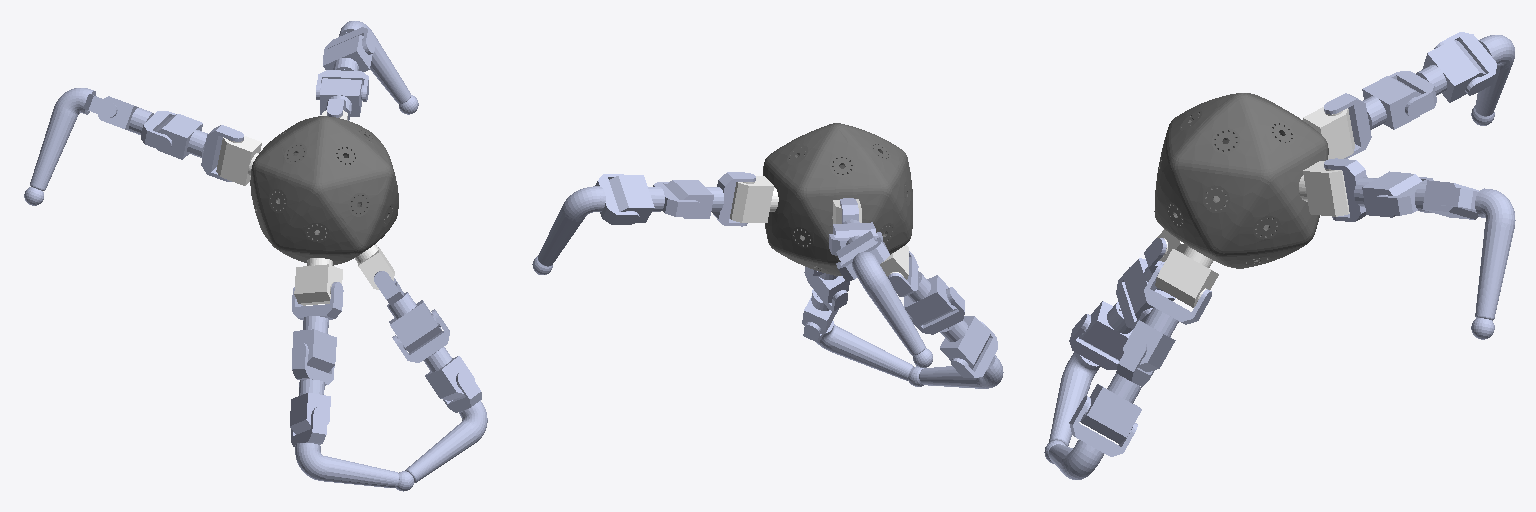
robot.urdf — mod_test:
<?xml version="1.0" encoding="utf-8"?>
<robot
  name="mod_test">
  <link
    name="base_link">
    <inertial>
      <origin
        xyz="-1.5226495220944E-06 1.5812928362389E-07 -5.05247252856584E-07"
        rpy="0 0 0" />
      <mass
        value="0.422806992949252" />
      <inertia
        ixx="0.00237499139253511"
        ixy="1.5717831530364E-08"
        ixz="1.49286265366169E-08"
        iyy="0.00237502154661776"
        iyz="-2.02154172619351E-08"
        izz="0.00237502595466009" />
    </inertial>
    <visual>
      <origin
        xyz="0 0 0"
        rpy="0 0 0" />
      <geometry>
        <mesh
          filename="package://meshes/base_link.STL" />
      </geometry>
      <material
        name="">
        <color
          rgba="0.498039215686275 0.498039215686275 0.498039215686275 1" />
      </material>
    </visual>
    <collision>
      <origin
        xyz="0 0 0"
        rpy="0 0 0" />
      <geometry>
        <mesh
          filename="package://meshes/base_link.STL" />
      </geometry>
    </collision>
  </link>
  <link
   name="150">
   <inertial>
      <origin
        xyz="0 0 0.028508"
        rpy="0 0 0" />
      <mass
        value="0.076173" />
      <inertia
        ixx="3.054E-05"
        ixy="0.000000"
        ixz="-0.000000"
        iyy="2.1077E-05"
        iyz="-0.000000"
        izz="2.1165E-05" />
    </inertial>
    <visual>
      <origin
        xyz="0 0 0"
        rpy="0 0 0" />
      <geometry>
        <mesh
          filename="package://meshes/1.STL" />
      </geometry>
      <material
        name="">
        <color
          rgba="1 1 1 1" />
      </material>
    </visual>
    <collision>
      <origin
        xyz="0 0 0"
        rpy="0 0 0" />
      <geometry>
        <mesh
          filename="package://meshes/1.STL" />
      </geometry>
    </collision>
  </link>
  <joint
    name="body_150"
    type="fixed">
    <origin
        xyz="0.031905 -0.043913 -0.071046"
        rpy="2.776697 -0.553612 -0.314143" />
    <parent
      link="base_link" />
    <child
      link="150" />
    <axis
      xyz="0 0 0" />
  </joint>
  <link
    name="151">
    <inertial>
      <origin
        xyz="0.060018 -1.4108E-06 1.4108E-06"
        rpy="0 0 0" />
    <mass
        value="0.10689" />
      <inertia
        ixx="3.2684e-05"
        ixy="-2.5662e-09"
        ixz="2.5662e-09"
        iyy="8.4132e-05"
        iyz="-2.1275e-13"
        izz="8.4583e-05" />
    </inertial>
    <visual>
      <origin
        xyz="0 0 0"
        rpy="0 0 0" />
      <geometry>
        <mesh
          filename="package://meshes/module9.STL" />
      </geometry>
      <material
        name="">
        <color
          rgba="0.79216 0.81961 0.93333 1" />
      </material>
    </visual>
    <collision>
      <origin
        xyz="0 0 0"
        rpy="0 0 0" />
      <geometry>
        <mesh
          filename="package://meshes/module9.STL" />
      </geometry>
    </collision>
  </link>
  <joint
    name="150_151"
    type="revolute">
    <origin
      xyz="0 0 0.04"
      rpy="-1.558 -1.5708 -0.012835" />
    <parent
      link="150" />
    <child
      link="151" />
    <axis
      xyz="0 0 1" />
    <limit
      lower="-6.28"
      upper="6.28"
      effort="10"
      velocity="100" />
  </joint>
  <link
    name="152">
    <inertial>
      <origin
        xyz="0.060018 -1.4108E-06 1.4108E-06"
        rpy="0 0 0" />
    <mass
        value="0.10689" />
      <inertia
        ixx="3.2684e-05"
        ixy="-2.5662e-09"
        ixz="2.5662e-09"
        iyy="8.6498e-05"
        iyz="4.0975e-06"
        izz="8.2217e-05" />
    </inertial>
    <visual>
      <origin
        xyz="0 0 0"
        rpy="0 0 0" />
      <geometry>
        <mesh
          filename="package://meshes/module2.STL" />
      </geometry>
      <material
        name="">
        <color
          rgba="0.79216 0.81961 0.93333 1" />
      </material>
    </visual>
    <collision>
      <origin
        xyz="0 0 0"
        rpy="0 0 0" />
      <geometry>
        <mesh
          filename="package://meshes/module2.STL" />
      </geometry>
    </collision>
  </link>
  <joint
    name="151_152"
    type="revolute">
    <origin
      xyz="0.0816 0 0"
      rpy="4.712389 0 0" />
    <parent
      link="151" />
    <child
      link="152" />
    <axis
      xyz="0 0 1" />
    <limit
      lower="-6.28"
      upper="6.28"
      effort="10"
      velocity="100" />
  </joint>
  <link
    name="153">
    <inertial>
      <origin
        xyz="0.051733 -0.042281 -1.3878E-17"
        rpy="0 0 0" />
    <mass
        value="0.12059" />
      <inertia
        ixx="0.00025425"
        ixy="4.8319E-05"
        ixz="0"
        iyy="5.0194E-05"
        iyz="-3.3141E-21"
        izz="0.00027482" />
    </inertial>
    <visual>
      <origin
        xyz="0 0 0"
        rpy="0 0 0" />
      <geometry>
        <mesh
          filename="package://meshes/leg.STL" />
      </geometry>
      <material
        name="">
        <color
          rgba="0.79216 0.81961 0.93333 1" />
      </material>
    </visual>
    <collision>
      <origin
        xyz="0 0 0"
        rpy="0 0 0" />
      <geometry>
        <mesh
          filename="package://meshes/leg.STL" />
      </geometry>
    </collision>
  </link>
  <joint
    name="152_153"
    type="revolute">
    <origin
      xyz="0.0816 0 0"
      rpy="1.047198 0 0" />
    <parent
      link="152" />
    <child
      link="153" />
    <axis
      xyz="0 0 1" />
    <limit
      lower="-6.28"
      upper="6.28"
      effort="10"
      velocity="100" />
  </joint>
  <link
   name="70">
   <inertial>
      <origin
        xyz="0 0 0.028508"
        rpy="0 0 0" />
      <mass
        value="0.076173" />
      <inertia
        ixx="3.054E-05"
        ixy="-0.000000"
        ixz="-0.000000"
        iyy="2.1077E-05"
        iyz="0.000000"
        izz="2.1165E-05" />
    </inertial>
    <visual>
      <origin
        xyz="0 0 0"
        rpy="0 0 0" />
      <geometry>
        <mesh
          filename="package://meshes/1.STL" />
      </geometry>
      <material
        name="">
        <color
          rgba="1 1 1 1" />
      </material>
    </visual>
    <collision>
      <origin
        xyz="0 0 0"
        rpy="0 0 0" />
      <geometry>
        <mesh
          filename="package://meshes/1.STL" />
      </geometry>
    </collision>
  </link>
  <joint
    name="body_70"
    type="fixed">
    <origin
        xyz="0.051620 0.071049 0.016769"
        rpy="-1.382126 -0.000000 -0.628319" />
    <parent
      link="base_link" />
    <child
      link="70" />
    <axis
      xyz="0 0 0" />
  </joint>
  <link
    name="71">
    <inertial>
      <origin
        xyz="0.060018 -1.4108E-06 1.4108E-06"
        rpy="0 0 0" />
    <mass
        value="0.10689" />
      <inertia
        ixx="3.2684e-05"
        ixy="-2.5662e-09"
        ixz="2.5662e-09"
        iyy="8.4132e-05"
        iyz="-2.1275e-13"
        izz="8.4583e-05" />
    </inertial>
    <visual>
      <origin
        xyz="0 0 0"
        rpy="0 0 0" />
      <geometry>
        <mesh
          filename="package://meshes/module9.STL" />
      </geometry>
      <material
        name="">
        <color
          rgba="0.79216 0.81961 0.93333 1" />
      </material>
    </visual>
    <collision>
      <origin
        xyz="0 0 0"
        rpy="0 0 0" />
      <geometry>
        <mesh
          filename="package://meshes/module9.STL" />
      </geometry>
    </collision>
  </link>
  <joint
    name="70_71"
    type="revolute">
    <origin
      xyz="0 0 0.04"
      rpy="-1.558 -1.5708 -0.012835" />
    <parent
      link="70" />
    <child
      link="71" />
    <axis
      xyz="0 0 1" />
    <limit
      lower="-6.28"
      upper="6.28"
      effort="10"
      velocity="100" />
  </joint>
  <link
    name="72">
    <inertial>
      <origin
        xyz="0.060018 -1.4108E-06 1.4108E-06"
        rpy="0 0 0" />
    <mass
        value="0.10689" />
      <inertia
        ixx="3.2684e-05"
        ixy="-2.5662e-09"
        ixz="2.5662e-09"
        iyy="9.1229e-05"
        iyz="-4.0975e-06"
        izz="7.7485e-05" />
    </inertial>
    <visual>
      <origin
        xyz="0 0 0"
        rpy="0 0 0" />
      <geometry>
        <mesh
          filename="package://meshes/module11.STL" />
      </geometry>
      <material
        name="">
        <color
          rgba="0.79216 0.81961 0.93333 1" />
      </material>
    </visual>
    <collision>
      <origin
        xyz="0 0 0"
        rpy="0 0 0" />
      <geometry>
        <mesh
          filename="package://meshes/module11.STL" />
      </geometry>
    </collision>
  </link>
  <joint
    name="71_72"
    type="revolute">
    <origin
      xyz="0.0816 0 0"
      rpy="4.712389 0 0" />
    <parent
      link="71" />
    <child
      link="72" />
    <axis
      xyz="0 0 1" />
    <limit
      lower="-6.28"
      upper="6.28"
      effort="10"
      velocity="100" />
  </joint>
  <link
    name="73">
    <inertial>
      <origin
        xyz="0.051733 -0.042281 -1.3878E-17"
        rpy="0 0 0" />
    <mass
        value="0.12059" />
      <inertia
        ixx="0.00025425"
        ixy="4.8319E-05"
        ixz="0"
        iyy="5.0194E-05"
        iyz="-3.3141E-21"
        izz="0.00027482" />
    </inertial>
    <visual>
      <origin
        xyz="0 0 0"
        rpy="0 0 0" />
      <geometry>
        <mesh
          filename="package://meshes/leg.STL" />
      </geometry>
      <material
        name="">
        <color
          rgba="0.79216 0.81961 0.93333 1" />
      </material>
    </visual>
    <collision>
      <origin
        xyz="0 0 0"
        rpy="0 0 0" />
      <geometry>
        <mesh
          filename="package://meshes/leg.STL" />
      </geometry>
    </collision>
  </link>
  <joint
    name="72_73"
    type="revolute">
    <origin
      xyz="0.0816 0 0"
      rpy="5.759587 0 0" />
    <parent
      link="72" />
    <child
      link="73" />
    <axis
      xyz="0 0 1" />
    <limit
      lower="-6.28"
      upper="6.28"
      effort="10"
      velocity="100" />
  </joint>
  <link
   name="80">
   <inertial>
      <origin
        xyz="0 0 0.028508"
        rpy="0 0 0" />
      <mass
        value="0.076173" />
      <inertia
        ixx="3.054E-05"
        ixy="-0.000000"
        ixz="-0.000000"
        iyy="2.1077E-05"
        iyz="-0.000000"
        izz="2.1165E-05" />
    </inertial>
    <visual>
      <origin
        xyz="0 0 0"
        rpy="0 0 0" />
      <geometry>
        <mesh
          filename="package://meshes/1.STL" />
      </geometry>
      <material
        name="">
        <color
          rgba="1 1 1 1" />
      </material>
    </visual>
    <collision>
      <origin
        xyz="0 0 0"
        rpy="0 0 0" />
      <geometry>
        <mesh
          filename="package://meshes/1.STL" />
      </geometry>
    </collision>
  </link>
  <joint
    name="body_80"
    type="fixed">
    <origin
        xyz="-0.051620 0.071049 0.016769"
        rpy="1.382126 -0.000000 -2.513274" />
    <parent
      link="base_link" />
    <child
      link="80" />
    <axis
      xyz="0 0 0" />
  </joint>
  <link
    name="81">
    <inertial>
      <origin
        xyz="0.060018 -1.4108E-06 1.4108E-06"
        rpy="0 0 0" />
    <mass
        value="0.10689" />
      <inertia
        ixx="3.2684e-05"
        ixy="-2.5662e-09"
        ixz="2.5662e-09"
        iyy="8.4132e-05"
        iyz="-2.1275e-13"
        izz="8.4583e-05" />
    </inertial>
    <visual>
      <origin
        xyz="0 0 0"
        rpy="0 0 0" />
      <geometry>
        <mesh
          filename="package://meshes/module3.STL" />
      </geometry>
      <material
        name="">
        <color
          rgba="0.79216 0.81961 0.93333 1" />
      </material>
    </visual>
    <collision>
      <origin
        xyz="0 0 0"
        rpy="0 0 0" />
      <geometry>
        <mesh
          filename="package://meshes/module3.STL" />
      </geometry>
    </collision>
  </link>
  <joint
    name="80_81"
    type="revolute">
    <origin
      xyz="0 0 0.04"
      rpy="-1.558 -1.5708 -0.012835" />
    <parent
      link="80" />
    <child
      link="81" />
    <axis
      xyz="0 0 1" />
    <limit
      lower="-6.28"
      upper="6.28"
      effort="10"
      velocity="100" />
  </joint>
  <link
    name="82">
    <inertial>
      <origin
        xyz="0.060018 -1.4108E-06 1.4108E-06"
        rpy="0 0 0" />
    <mass
        value="0.10689" />
      <inertia
        ixx="3.2684e-05"
        ixy="-2.5662e-09"
        ixz="2.5662e-09"
        iyy="9.1229e-05"
        iyz="4.0975e-06"
        izz="7.7485e-05" />
    </inertial>
    <visual>
      <origin
        xyz="0 0 0"
        rpy="0 0 0" />
      <geometry>
        <mesh
          filename="package://meshes/module1.STL" />
      </geometry>
      <material
        name="">
        <color
          rgba="0.79216 0.81961 0.93333 1" />
      </material>
    </visual>
    <collision>
      <origin
        xyz="0 0 0"
        rpy="0 0 0" />
      <geometry>
        <mesh
          filename="package://meshes/module1.STL" />
      </geometry>
    </collision>
  </link>
  <joint
    name="81_82"
    type="revolute">
    <origin
      xyz="0.0816 0 0"
      rpy="1.570796 0 0" />
    <parent
      link="81" />
    <child
      link="82" />
    <axis
      xyz="0 0 1" />
    <limit
      lower="-6.28"
      upper="6.28"
      effort="10"
      velocity="100" />
  </joint>
  <link
    name="83">
    <inertial>
      <origin
        xyz="0.051733 -0.042281 -1.3878E-17"
        rpy="0 0 0" />
    <mass
        value="0.12059" />
      <inertia
        ixx="0.00025425"
        ixy="4.8319E-05"
        ixz="0"
        iyy="5.0194E-05"
        iyz="-3.3141E-21"
        izz="0.00027482" />
    </inertial>
    <visual>
      <origin
        xyz="0 0 0"
        rpy="0 0 0" />
      <geometry>
        <mesh
          filename="package://meshes/leg.STL" />
      </geometry>
      <material
        name="">
        <color
          rgba="0.79216 0.81961 0.93333 1" />
      </material>
    </visual>
    <collision>
      <origin
        xyz="0 0 0"
        rpy="0 0 0" />
      <geometry>
        <mesh
          filename="package://meshes/leg.STL" />
      </geometry>
    </collision>
  </link>
  <joint
    name="82_83"
    type="revolute">
    <origin
      xyz="0.0816 0 0"
      rpy="0.523599 0 0" />
    <parent
      link="82" />
    <child
      link="83" />
    <axis
      xyz="0 0 1" />
    <limit
      lower="-6.28"
      upper="6.28"
      effort="10"
      velocity="100" />
  </joint>
  <link
   name="190">
   <inertial>
      <origin
        xyz="0 0 0.028508"
        rpy="0 0 0" />
      <mass
        value="0.076173" />
      <inertia
        ixx="3.054E-05"
        ixy="0.000000"
        ixz="0.000000"
        iyy="2.1077E-05"
        iyz="0.000021"
        izz="2.1165E-05" />
    </inertial>
    <visual>
      <origin
        xyz="0 0 0"
        rpy="0 0 0" />
      <geometry>
        <mesh
          filename="package://meshes/1.STL" />
      </geometry>
      <material
        name="">
        <color
          rgba="1 1 1 1" />
      </material>
    </visual>
    <collision>
      <origin
        xyz="0 0 0"
        rpy="0 0 0" />
      <geometry>
        <mesh
          filename="package://meshes/1.STL" />
      </geometry>
    </collision>
  </link>
  <joint
    name="body_190"
    type="fixed">
    <origin
        xyz="-0.031905 -0.043913 -0.071046"
        rpy="-2.776697 -0.553612 -2.827450" />
    <parent
      link="base_link" />
    <child
      link="190" />
    <axis
      xyz="0 0 0" />
  </joint>
  <link
    name="191">
    <inertial>
      <origin
        xyz="0.060018 -1.4108E-06 1.4108E-06"
        rpy="0 0 0" />
    <mass
        value="0.10689" />
      <inertia
        ixx="3.2684e-05"
        ixy="-2.5662e-09"
        ixz="2.5662e-09"
        iyy="8.4132e-05"
        iyz="-2.1275e-13"
        izz="8.4583e-05" />
    </inertial>
    <visual>
      <origin
        xyz="0 0 0"
        rpy="0 0 0" />
      <geometry>
        <mesh
          filename="package://meshes/module3.STL" />
      </geometry>
      <material
        name="">
        <color
          rgba="0.79216 0.81961 0.93333 1" />
      </material>
    </visual>
    <collision>
      <origin
        xyz="0 0 0"
        rpy="0 0 0" />
      <geometry>
        <mesh
          filename="package://meshes/module3.STL" />
      </geometry>
    </collision>
  </link>
  <joint
    name="190_191"
    type="revolute">
    <origin
      xyz="0 0 0.04"
      rpy="-1.558 -1.5708 -0.012835" />
    <parent
      link="190" />
    <child
      link="191" />
    <axis
      xyz="0 0 1" />
    <limit
      lower="-6.28"
      upper="6.28"
      effort="10"
      velocity="100" />
  </joint>
  <link
    name="192">
    <inertial>
      <origin
        xyz="0.060018 -1.4108E-06 1.4108E-06"
        rpy="0 0 0" />
    <mass
        value="0.10689" />
      <inertia
        ixx="3.2684e-05"
        ixy="-2.5662e-09"
        ixz="2.5662e-09"
        iyy="8.6498e-05"
        iyz="-4.0975e-06"
        izz="8.2217e-05" />
    </inertial>
    <visual>
      <origin
        xyz="0 0 0"
        rpy="0 0 0" />
      <geometry>
        <mesh
          filename="package://meshes/module10.STL" />
      </geometry>
      <material
        name="">
        <color
          rgba="0.79216 0.81961 0.93333 1" />
      </material>
    </visual>
    <collision>
      <origin
        xyz="0 0 0"
        rpy="0 0 0" />
      <geometry>
        <mesh
          filename="package://meshes/module10.STL" />
      </geometry>
    </collision>
  </link>
  <joint
    name="191_192"
    type="revolute">
    <origin
      xyz="0.0816 0 0"
      rpy="1.570796 0 0" />
    <parent
      link="191" />
    <child
      link="192" />
    <axis
      xyz="0 0 1" />
    <limit
      lower="-6.28"
      upper="6.28"
      effort="10"
      velocity="100" />
  </joint>
  <link
    name="193">
    <inertial>
      <origin
        xyz="0.051733 -0.042281 -1.3878E-17"
        rpy="0 0 0" />
    <mass
        value="0.12059" />
      <inertia
        ixx="0.00025425"
        ixy="4.8319E-05"
        ixz="0"
        iyy="5.0194E-05"
        iyz="-3.3141E-21"
        izz="0.00027482" />
    </inertial>
    <visual>
      <origin
        xyz="0 0 0"
        rpy="0 0 0" />
      <geometry>
        <mesh
          filename="package://meshes/leg.STL" />
      </geometry>
      <material
        name="">
        <color
          rgba="0.79216 0.81961 0.93333 1" />
      </material>
    </visual>
    <collision>
      <origin
        xyz="0 0 0"
        rpy="0 0 0" />
      <geometry>
        <mesh
          filename="package://meshes/leg.STL" />
      </geometry>
    </collision>
  </link>
  <joint
    name="192_193"
    type="revolute">
    <origin
      xyz="0.0816 0 0"
      rpy="5.235988 0 0" />
    <parent
      link="192" />
    <child
      link="193" />
    <axis
      xyz="0 0 1" />
    <limit
      lower="-6.28"
      upper="6.28"
      effort="10"
      velocity="100" />
  </joint>
  <link
    name = "ball_1">
    <inertial>
    <origin
        xyz="0 0 0"
        rpy="0 0 0" />
    <mass
        value="0" />
      <inertia
        ixx="0"
        ixy="0"
        ixz="0"
        iyy="0"
        iyz="0"
        izz="0" />
    </inertial>    <visual>
      <origin
        xyz="0 0 0"
        rpy="0 0 0" />
     <geometry>
        <sphere radius = "0.01"/>
      </geometry>
      <material
        name="green">
        <color
          rgba="0.22 1 0.4 1" />
      </material>
    </visual>
  </link>
  <joint
  name="153_ball1"
  type="fixed">
    <origin
      xyz="0.0612 -0.13431 0"
      rpy="0 0 0" />
    <parent
      link="153" />
    <child
      link="ball_1" />
    <axis
      xyz="0 0 0" />
  </joint>
  <link
    name = "ball_2">
    <inertial>
    <origin
        xyz="0 0 0"
        rpy="0 0 0" />
    <mass
        value="0" />
      <inertia
        ixx="0"
        ixy="0"
        ixz="0"
        iyy="0"
        iyz="0"
        izz="0" />
    </inertial>    <visual>
      <origin
        xyz="0 0 0"
        rpy="0 0 0" />
      <geometry>
        <sphere radius = "0.01"/>
      </geometry>
      <material
        name="blue">
        <color
          rgba="0.16 0.52 0.8 1" />
      </material>
    </visual>
  </link>
  <joint
  name="73_ball2"
  type="fixed">
    <origin
      xyz="0.0612 -0.13431 0"
      rpy="0 0 0" />
    <parent
      link="73" />
    <child
      link="ball_2" />
    <axis
      xyz="0 0 0" />
  </joint>
  <link
    name = "ball_3">
    <inertial>
    <origin
        xyz="0 0 0"
        rpy="0 0 0" />
    <mass
        value="0" />
      <inertia
        ixx="0"
        ixy="0"
        ixz="0"
        iyy="0"
        iyz="0"
        izz="0" />
    </inertial>    <visual>
      <origin
        xyz="0 0 0"
        rpy="0 0 0" />
     <geometry>
        <sphere radius = "0.01"/>
      </geometry>
      <material
        name="blue">
        <color
          rgba="0.16 0.52 0.8 1" />
      </material>
    </visual>
  </link>
  <joint
  name="83_ball3"
  type="fixed">
    <origin
      xyz="0.0612 -0.13431 0"
      rpy="0 0 0" />
    <parent
      link="83" />
    <child
      link="ball_3" />
    <axis
      xyz="0 0 0" />
  </joint>
  <link
    name = "ball_4">
    <inertial>
    <origin
        xyz="0 0 0"
        rpy="0 0 0" />
    <mass
        value="0" />
      <inertia
        ixx="0"
        ixy="0"
        ixz="0"
        iyy="0"
        iyz="0"
        izz="0" />
    </inertial>    <visual>
      <origin
        xyz="0 0 0"
        rpy="0 0 0" />
      <geometry>
        <sphere radius = "0.01"/>
      </geometry>
      <material
        name="yellow">
        <color
          rgba="1 1 0 1" />
      </material>
    </visual>
  </link>
  <joint
  name="193_ball4"
  type="fixed">
    <origin
      xyz="0.0612 -0.13431 0"
      rpy="0 0 0" />
    <parent
      link="193" />
    <child
      link="ball_4" />
    <axis
      xyz="0 0 0" />
  </joint>
</robot>

--- Render facts (derived) ---
Views: 3 orthographic renders of the robot side by side, from view 1: azimuth 30°, elevation 25°; view 2: azimuth 150°, elevation 25°; view 3: azimuth 270°, elevation 25°.
Robot: mod_test — 21 links, 20 joints (12 revolute, 8 fixed); root link base_link; default pose: every joint at zero.
Links seen in each view (by area): view 1: base_link, 193, 83, 153, 191, 81, 151, 152, 192, 73, 72, 82 (+4 smaller); view 2: base_link, 83, 73, 192, 72, 153, 193, 191, 71, 70, 152, 81 (+3 smaller); view 3: base_link, 73, 152, 82, 81, 193, 83, 151, 153, 71, 192, 150 (+4 smaller).
Boxes of the visible links, bbox=[...] form: base_link: bbox=[250, 116, 398, 265]; 193: bbox=[291, 406, 408, 491]; 83: bbox=[24, 88, 117, 205]; 153: bbox=[402, 371, 487, 490]; 191: bbox=[292, 282, 343, 372]; 81: bbox=[155, 114, 243, 181]; 151: bbox=[374, 271, 441, 352]; 152: bbox=[392, 309, 474, 400]; 192: bbox=[290, 342, 334, 434]; 73: bbox=[323, 21, 418, 114]; 72: bbox=[316, 35, 372, 101]; 82: bbox=[98, 96, 175, 150]; base_link: bbox=[763, 123, 912, 275]; 83: bbox=[836, 237, 932, 367]; 73: bbox=[532, 174, 639, 274]; 192: bbox=[908, 287, 990, 369]; 72: bbox=[609, 175, 701, 222]; 153: bbox=[803, 321, 917, 385]; 193: bbox=[913, 321, 1003, 388]; 191: bbox=[888, 251, 956, 325]; 71: bbox=[666, 172, 755, 226]; 70: bbox=[730, 176, 778, 222]; 152: bbox=[802, 272, 847, 333]; 81: bbox=[833, 198, 877, 237]; base_link: bbox=[1154, 93, 1328, 268]; 73: bbox=[1433, 187, 1515, 339]; 152: bbox=[1080, 339, 1154, 443]; 82: bbox=[1390, 40, 1485, 117]; 81: bbox=[1324, 76, 1421, 158]; 193: bbox=[1045, 314, 1118, 447]; 83: bbox=[1434, 32, 1514, 125]; 151: bbox=[1123, 263, 1211, 371]; 153: bbox=[1044, 396, 1137, 479]; 71: bbox=[1324, 158, 1421, 221]; 192: bbox=[1079, 266, 1152, 360]; 150: bbox=[1155, 246, 1218, 307].
Size in the robot's own frame: 0.5682 by 0.5058 by 0.4368 metres.
17 mesh visuals loaded from 9 distinct referenced files (9 binary STL).